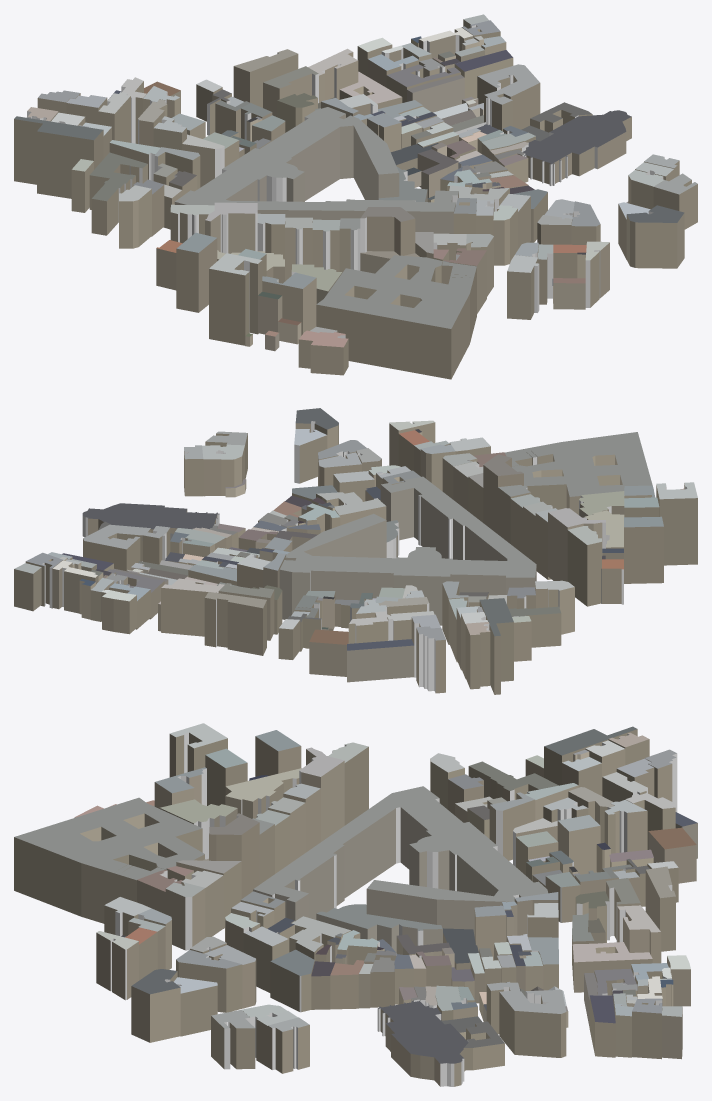
3 views of the same model, one above another, from view 1: azimuth 30°, elevation 25°; view 2: azimuth 150°, elevation 25°; view 3: azimuth 270°, elevation 25° (orthographic). The views are drawn at different scales.
Parts seen in each view (by area): view 1: tuile; view 2: tuile; view 3: tuile.
Part boxes in pixels (x1=…): tuile: x1=14, y1=14, x2=697, y2=379; tuile: x1=14, y1=408, x2=697, y2=694; tuile: x1=14, y1=723, x2=697, y2=1086.
Size of the model in its own units: 280 by 42.74 by 292.
